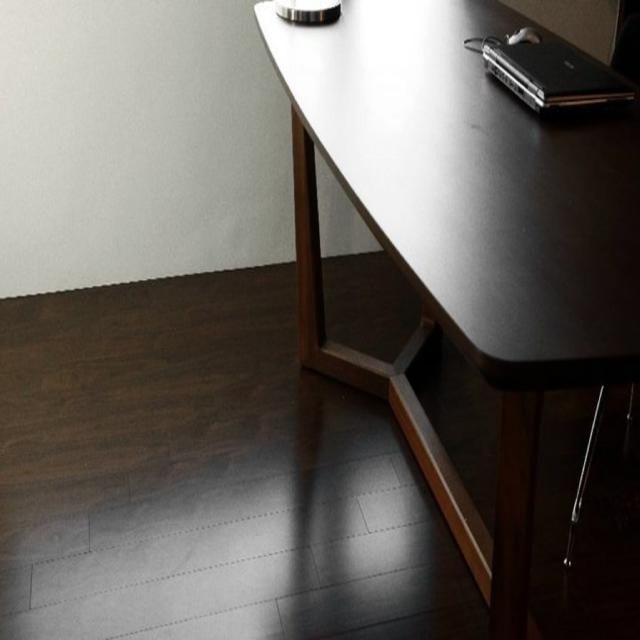desk: (256, 0, 639, 639)
laptop: (481, 34, 637, 114)
